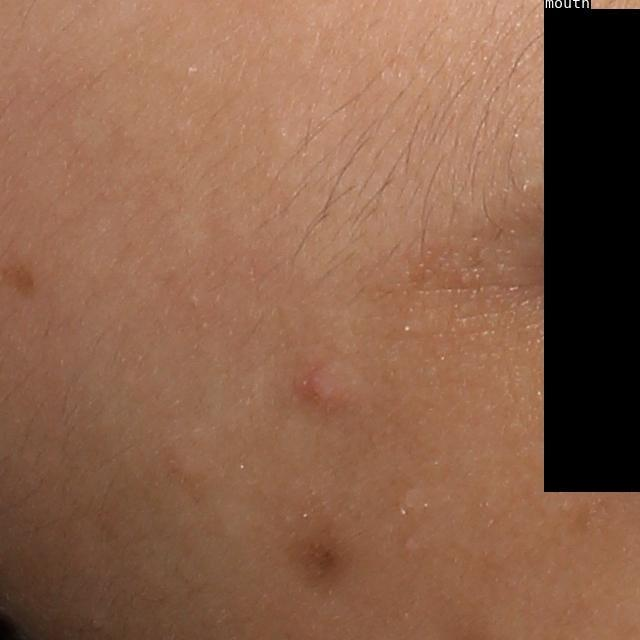papule: (289, 352, 372, 418)
